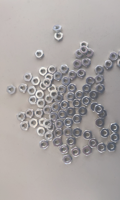nut: (110, 123, 120, 133), (83, 130, 93, 140), (63, 155, 73, 165), (43, 119, 53, 129), (66, 107, 76, 117), (29, 119, 39, 129), (89, 138, 98, 149), (72, 147, 81, 158), (111, 133, 120, 143), (107, 143, 117, 152), (100, 129, 110, 138), (96, 118, 105, 128), (83, 146, 92, 156), (67, 137, 76, 147), (73, 128, 82, 138), (40, 140, 49, 150), (53, 138, 62, 148), (72, 99, 82, 108), (78, 107, 88, 116), (27, 86, 37, 95), (7, 85, 16, 95), (35, 90, 45, 99), (64, 128, 73, 138), (72, 115, 82, 124), (54, 120, 64, 129), (64, 118, 74, 127), (58, 110, 68, 119), (60, 101, 70, 110), (49, 112, 58, 122), (54, 129, 64, 138), (37, 127, 46, 137), (34, 109, 44, 118), (35, 50, 44, 59), (82, 58, 91, 67), (73, 60, 82, 69), (60, 65, 69, 74), (96, 75, 105, 84), (77, 69, 86, 78), (96, 84, 105, 93), (75, 49, 84, 58), (23, 73, 32, 82), (68, 84, 77, 93), (31, 77, 40, 86), (95, 105, 104, 114), (90, 103, 99, 112), (60, 145, 69, 154), (82, 97, 91, 106), (66, 93, 75, 102), (50, 90, 59, 99), (39, 82, 48, 91), (28, 96, 37, 105), (37, 99, 46, 108), (51, 103, 60, 112), (43, 106, 52, 115), (45, 132, 54, 141), (20, 122, 29, 131), (17, 112, 26, 121), (25, 109, 34, 118), (98, 143, 106, 153), (105, 60, 113, 70), (83, 84, 91, 94), (43, 78, 51, 88), (58, 85, 66, 95), (95, 66, 104, 74), (80, 46, 89, 54), (69, 71, 77, 80), (87, 77, 95, 86), (54, 72, 62, 81), (39, 67, 47, 76), (90, 91, 98, 100), (62, 77, 70, 86), (99, 110, 107, 119), (76, 91, 84, 100), (48, 85, 57, 93), (19, 84, 27, 93), (55, 94, 63, 103), (45, 95, 53, 104), (64, 128, 72, 137), (47, 123, 55, 132), (39, 118, 47, 127), (110, 53, 118, 61), (86, 49, 94, 57), (48, 66, 56, 74), (53, 25, 62, 32), (55, 33, 63, 40), (80, 41, 89, 47), (45, 74, 53, 80), (118, 59, 120, 68), (119, 50, 120, 58)
